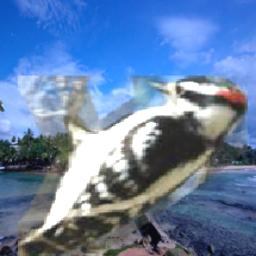Swallow: (0, 52, 7, 114)
Woodpecker: (17, 77, 246, 256)
